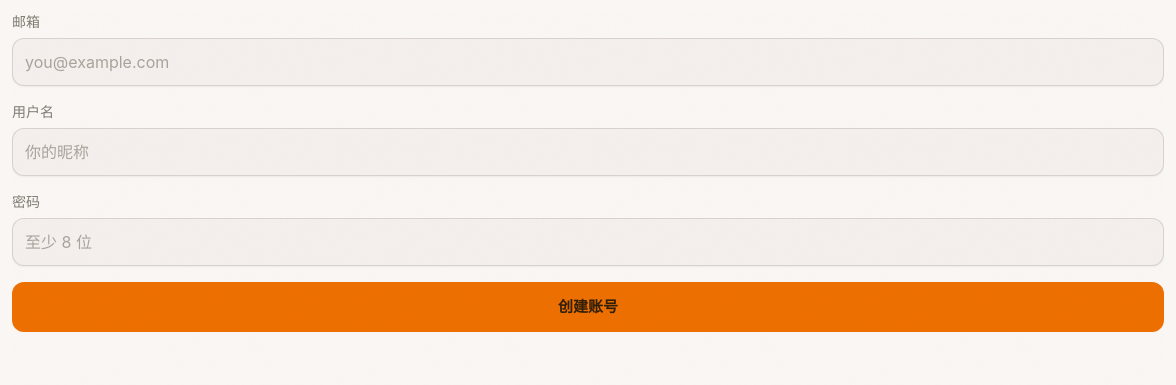
Test: RegisterForm › shows fallback error when server response has no error field
The width and height of the screenshot is (1176, 385).
Type "a@b.com" into the field labelled "邮箱" at (588,62), box x1=12 y1=38 x2=1164 y2=86
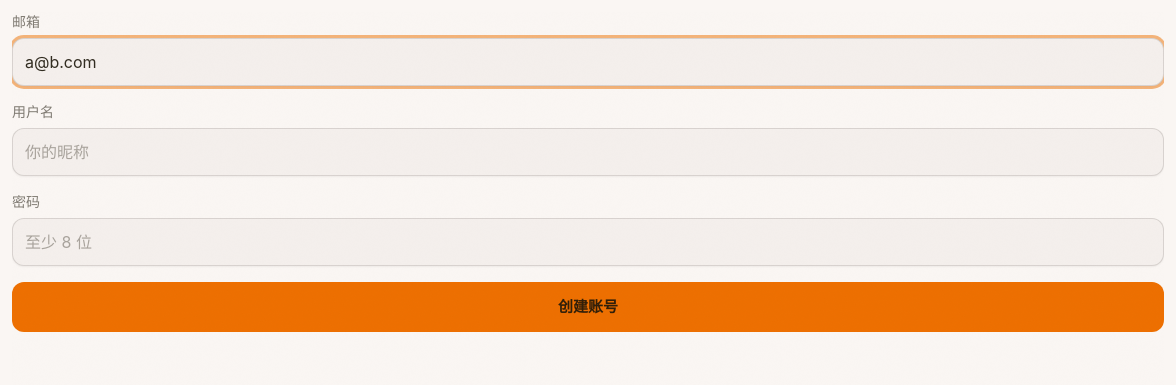
Type "testuser" into the field labelled "用户名" at (588,152), box x1=12 y1=128 x2=1164 y2=176
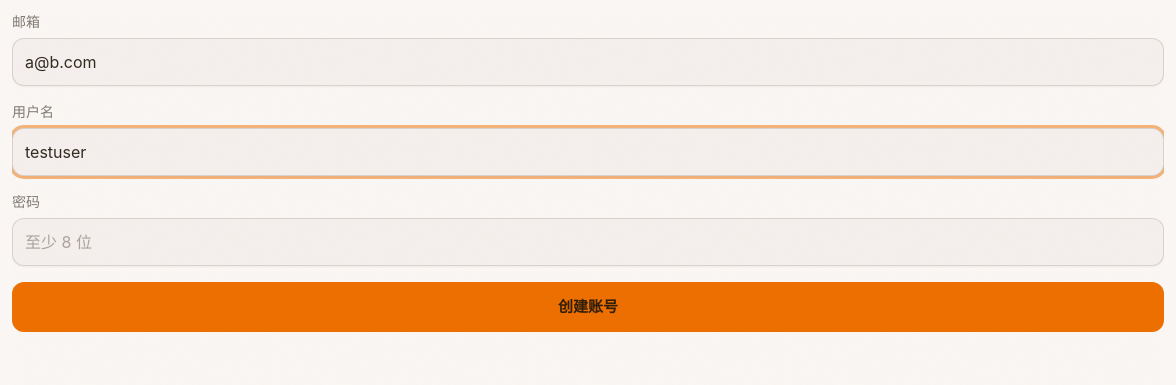
Type "password123" into the password field labelled "密码" at (588,242), box x1=12 y1=218 x2=1164 y2=266
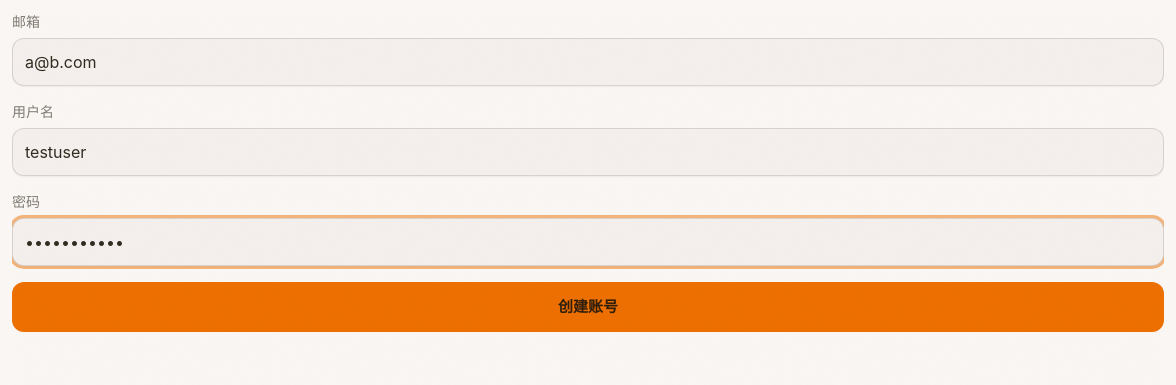
Click the button at (588,307), box x1=12 y1=282 x2=1164 y2=332
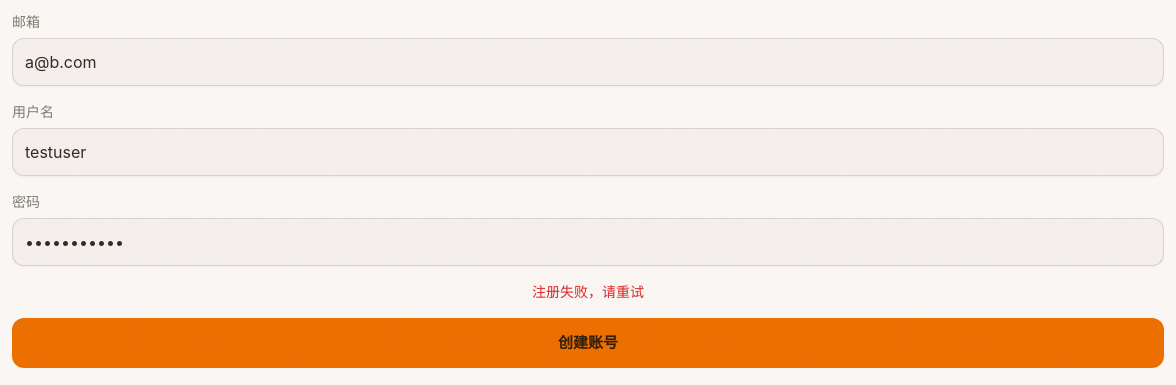
Now the text "注册失败，请重试" is shown, box x1=532 y1=283 x2=644 y2=300
